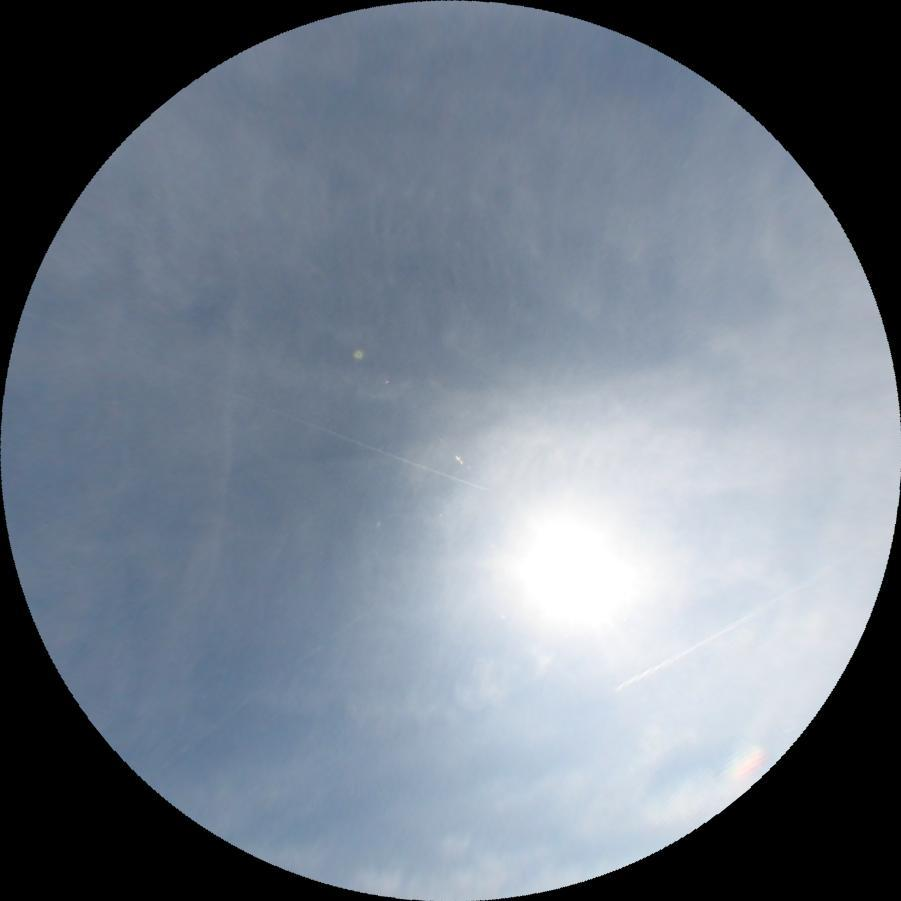contrail veryold: (134, 316, 291, 723)
contrail young: (134, 354, 491, 493), (614, 589, 794, 691)
sun: (501, 502, 639, 643)
